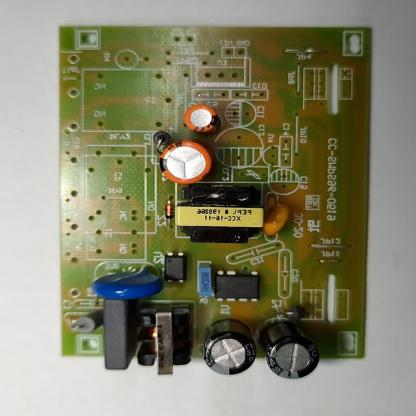Cap1: (158, 138, 212, 184)
Cap2: (184, 103, 216, 132)
Cap3: (202, 316, 257, 378)
Cap4: (262, 321, 320, 380)
MOSFET: (214, 269, 259, 303)
Mov: (91, 264, 166, 300)
Resistor: (71, 309, 102, 334)
Transformer: (178, 183, 265, 245), (132, 302, 192, 377)
